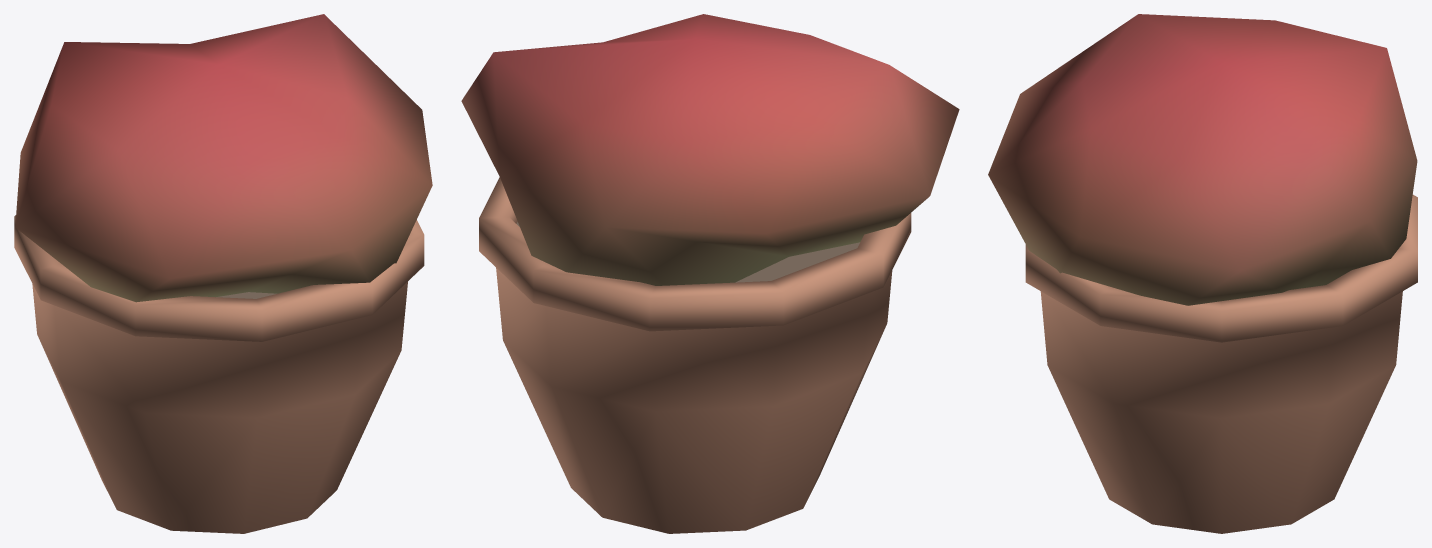
Rendered from SM_BM_BP_PotGeranium.glb.
3 views of the same model, side by side, from view 1: azimuth 30°, elevation 25°; view 2: azimuth 150°, elevation 25°; view 3: azimuth 270°, elevation 25° (orthographic). The views are drawn at different scales.
Visible parts, largest first — view 1: SM_BM_BP_PotGeranium; view 2: SM_BM_BP_PotGeranium; view 3: SM_BM_BP_PotGeranium.
Boxes of the visible parts, bbox=[...] form: SM_BM_BP_PotGeranium: bbox=[14, 14, 432, 533]; SM_BM_BP_PotGeranium: bbox=[461, 14, 959, 533]; SM_BM_BP_PotGeranium: bbox=[988, 14, 1417, 533].
Size of the model in its own units: 0.5151 by 0.486 by 0.4502.
